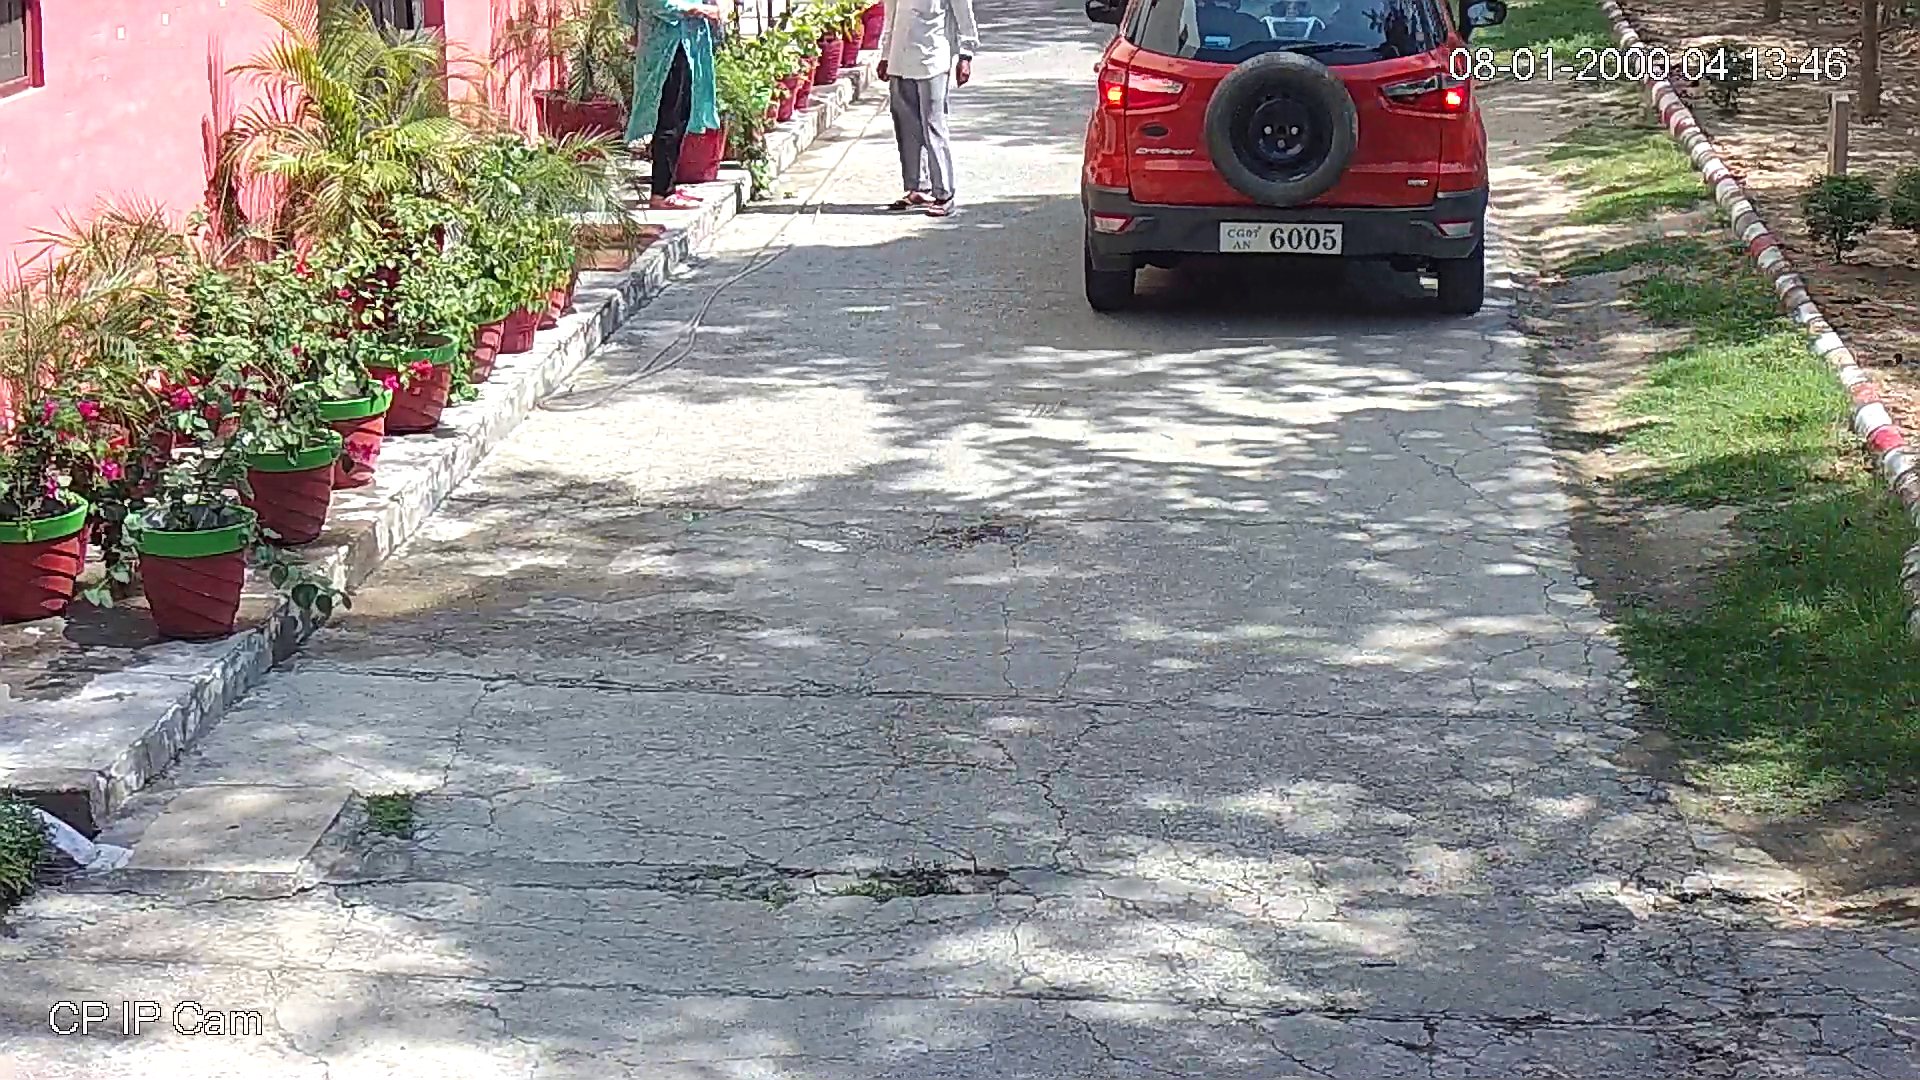plate: (1211, 215, 1350, 257)
